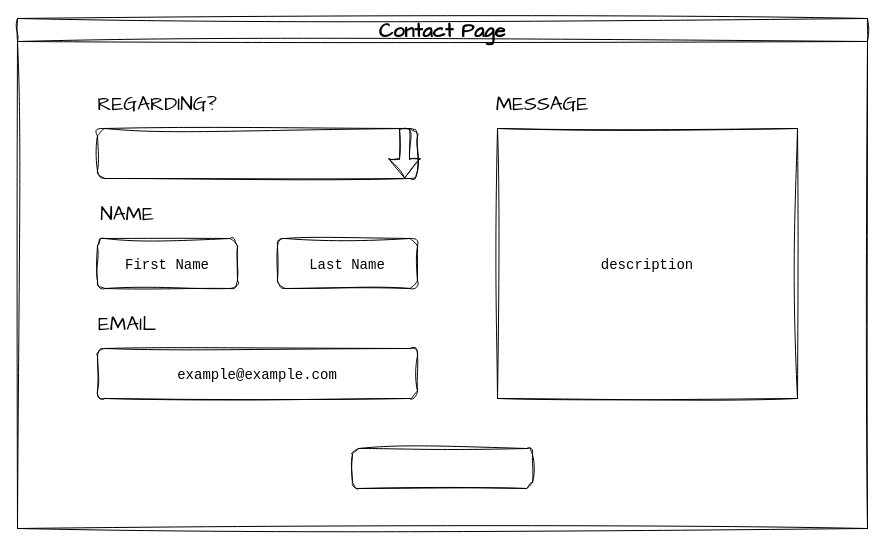
Image size: 885x546. Some labels were removed from this diagram. Here are the shapes that lost their labels. From the top down, the centre of each, then its label:
At (257,153): "food/menu/collab/etc...".
At (442,468): "SUBMIT".
